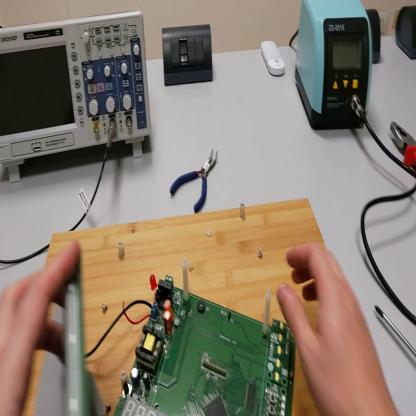hand: (278, 240, 390, 409), (2, 240, 82, 416)
low voltage board: (78, 255, 294, 416)
oscilloscope: (1, 14, 154, 188)
pliers: (169, 150, 222, 217), (391, 121, 416, 172)
screwdriver-: (376, 304, 416, 360)
socket: (398, 5, 416, 63), (366, 10, 382, 66)
welder station: (295, 3, 372, 131)
working area: (23, 195, 328, 413)
